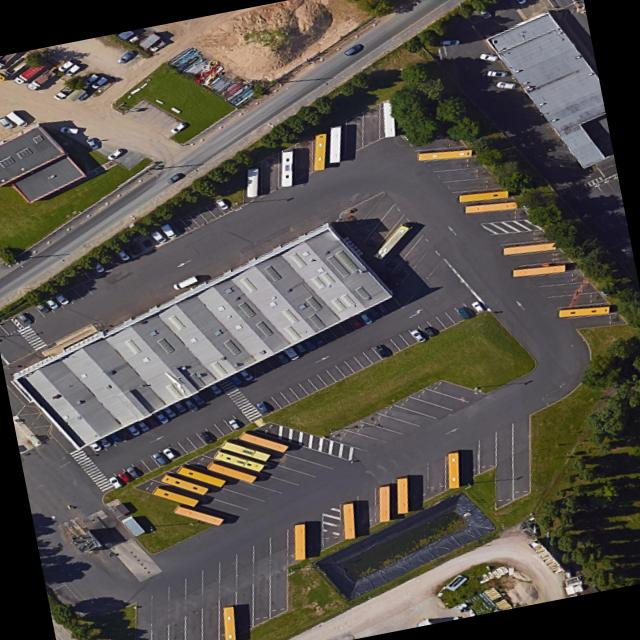large-vehicle: (372, 222, 413, 260), (212, 450, 265, 473), (206, 461, 258, 484), (219, 439, 271, 462), (176, 465, 227, 488), (238, 431, 291, 453), (174, 504, 225, 526), (160, 473, 210, 495), (152, 486, 200, 508), (0, 55, 31, 81), (13, 61, 46, 84), (504, 242, 557, 256), (514, 264, 566, 277), (466, 201, 518, 214), (417, 149, 473, 161), (458, 190, 509, 203), (559, 306, 610, 318), (27, 69, 56, 90), (313, 133, 328, 171), (280, 148, 294, 187), (383, 101, 398, 137), (329, 125, 343, 163), (343, 503, 356, 540), (378, 485, 391, 522), (448, 452, 461, 489), (294, 523, 306, 561), (397, 477, 409, 514), (223, 607, 236, 640), (247, 167, 259, 198)
small-vehicle: (3, 110, 29, 129), (172, 275, 200, 291), (158, 222, 180, 240), (52, 84, 75, 101), (372, 343, 392, 360), (181, 397, 201, 413), (408, 328, 428, 344), (116, 49, 136, 65), (151, 451, 171, 466), (282, 346, 302, 361), (343, 43, 363, 57), (63, 63, 83, 77), (124, 466, 142, 481), (150, 229, 168, 244), (160, 447, 179, 461), (153, 410, 172, 424), (273, 351, 292, 365), (106, 147, 125, 161), (90, 76, 109, 90), (254, 400, 271, 415), (199, 431, 217, 445), (189, 392, 207, 406), (310, 333, 328, 347), (237, 368, 255, 382), (456, 306, 474, 320), (357, 311, 375, 325), (89, 259, 107, 273), (84, 137, 102, 151), (53, 293, 72, 306), (114, 248, 133, 261), (16, 312, 34, 325), (301, 338, 319, 351), (347, 316, 365, 329), (170, 121, 188, 134), (82, 73, 100, 86), (57, 60, 75, 73), (59, 125, 80, 136), (165, 172, 184, 184), (125, 424, 142, 437), (135, 420, 152, 433), (144, 415, 161, 428), (422, 325, 439, 338), (214, 197, 231, 210), (117, 471, 133, 484), (162, 406, 179, 418), (207, 383, 224, 395), (44, 297, 61, 309), (479, 52, 499, 62), (108, 476, 123, 489), (470, 300, 485, 313), (172, 401, 188, 413), (228, 373, 244, 385), (0, 116, 14, 129), (98, 436, 113, 448), (227, 418, 242, 430), (108, 432, 123, 444), (35, 302, 50, 314), (293, 341, 308, 353), (496, 81, 516, 90), (486, 70, 509, 77), (479, 6, 491, 19), (89, 441, 103, 452), (438, 39, 459, 46), (515, 0, 528, 5)
